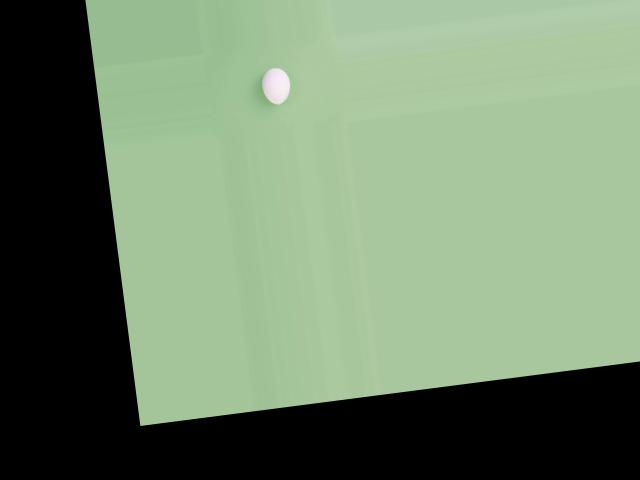egg: (260, 65, 292, 105)
